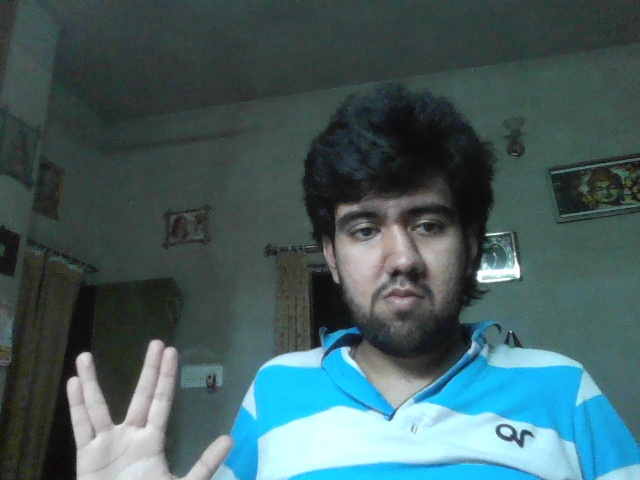LiveLong: (65, 338, 234, 480)
